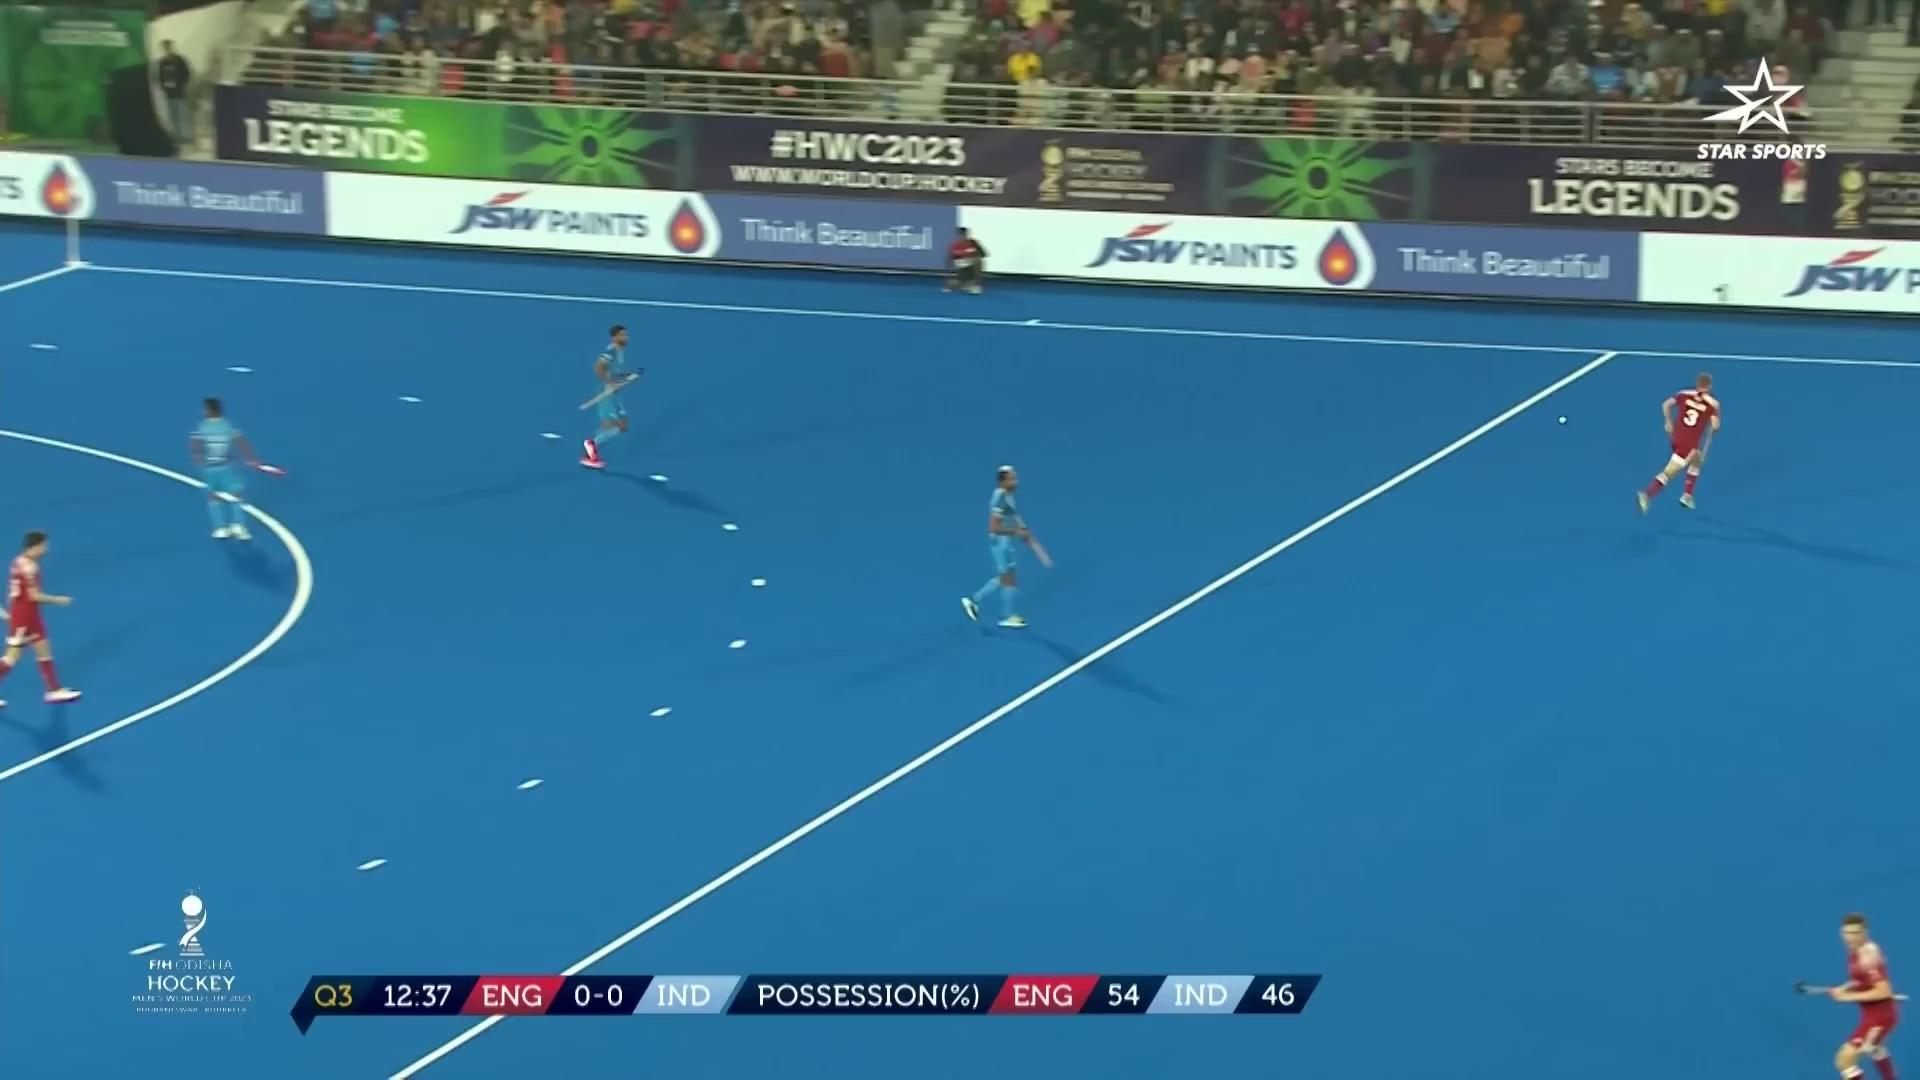ball: (1545, 401, 1580, 438)
